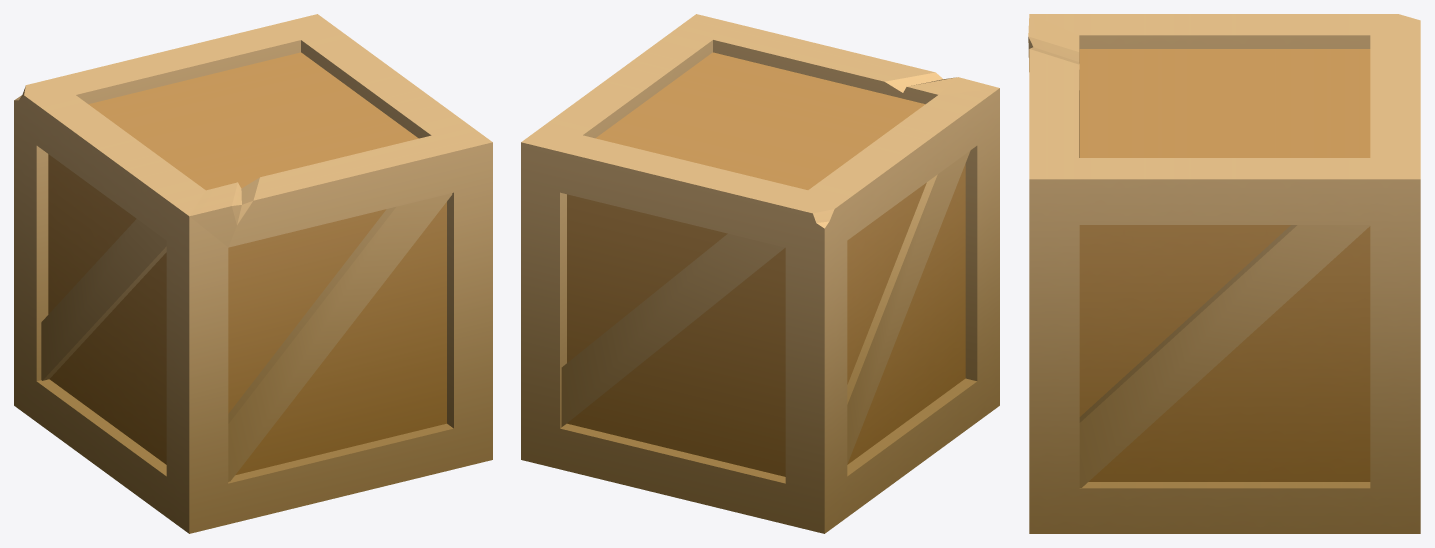
The model's file is Crate_A.fbx.
3 views of the same model, side by side, from view 1: azimuth 30°, elevation 25°; view 2: azimuth 150°, elevation 25°; view 3: azimuth 270°, elevation 25° (orthographic). The views are drawn at different scales.
Visible parts, largest first — view 1: Crate_A; view 2: Crate_A; view 3: Crate_A.
Part boxes in pixels (x1=…): Crate_A: x1=14, y1=14, x2=492, y2=533; Crate_A: x1=521, y1=14, x2=999, y2=533; Crate_A: x1=1028, y1=14, x2=1420, y2=533.
Bounding box in the file's own units: 100 × 100 × 100.
